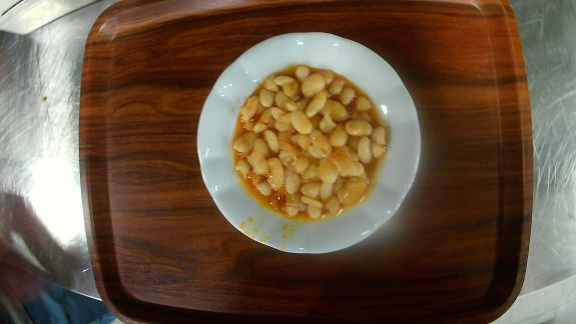kurufasulye: (196, 30, 424, 259)
